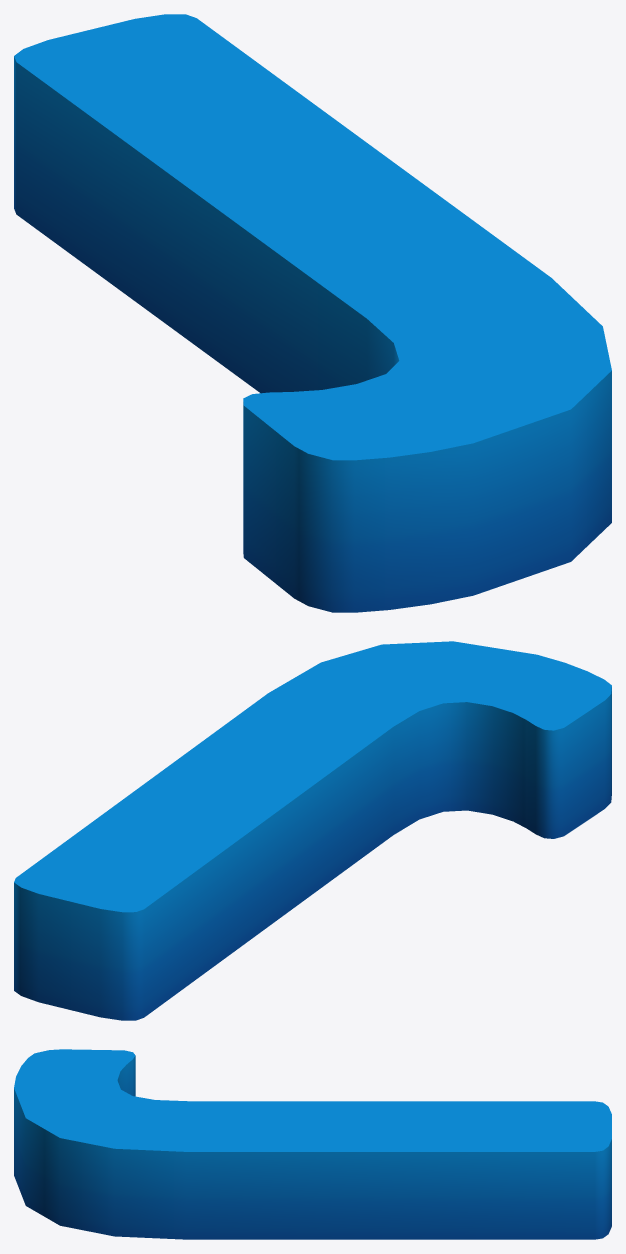
Rendered from letter_J.fbx.
3 renders of one model, top to bottom at view 1: azimuth 30°, elevation 25°; view 2: azimuth 150°, elevation 25°; view 3: azimuth 270°, elevation 25°, orthographic. The views are drawn at different scales.
Parts seen in each view (by area): view 1: letter_J; view 2: letter_J; view 3: letter_J.
Boxes of the visible parts, x1,y1,x2,y2 form: letter_J: (14,14,611,612); letter_J: (14,641,611,1020); letter_J: (14,1049,611,1239).
Bounding box in the file's own units: 9.41 × 3.75 × 23.17.
